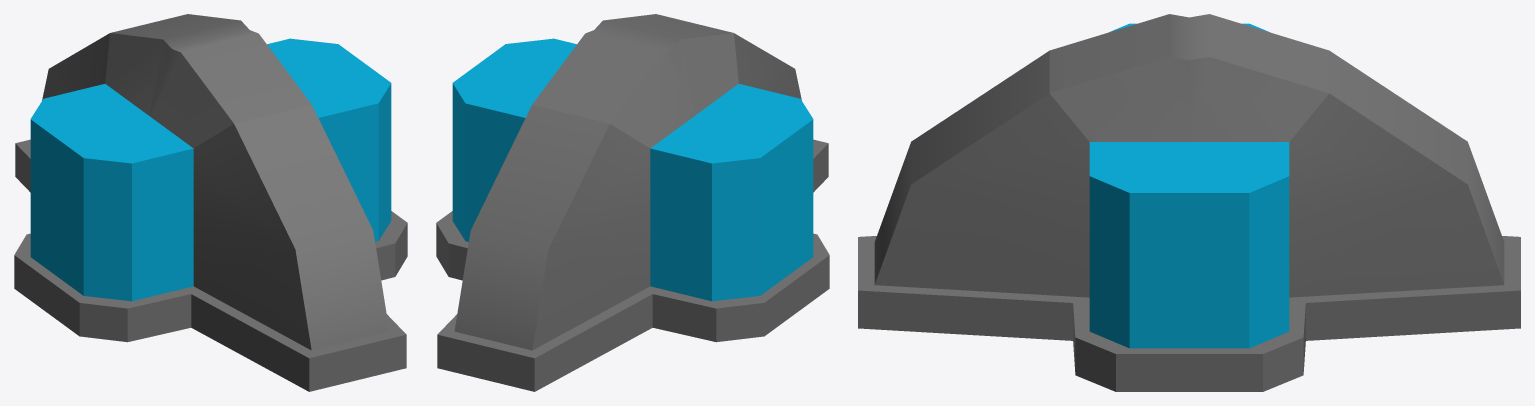
File: _1Ship_PIece8.fbx
The picture shows the model from 3 angles, left to right: view 1: azimuth 30°, elevation 25°; view 2: azimuth 150°, elevation 25°; view 3: azimuth 270°, elevation 25°; orthographic projection. The views are drawn at different scales.
Parts seen in each view (by area): view 1: Ship_PIece8; view 2: Ship_PIece8; view 3: Ship_PIece8.
Boxes of the visible parts, x1,y1,x2,y2 form: Ship_PIece8: (14, 14, 407, 391); Ship_PIece8: (436, 14, 829, 391); Ship_PIece8: (858, 14, 1520, 391).
Size of the model in its own units: 268 by 184 by 415.
